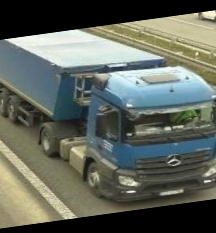truck: (0, 10, 216, 226)
